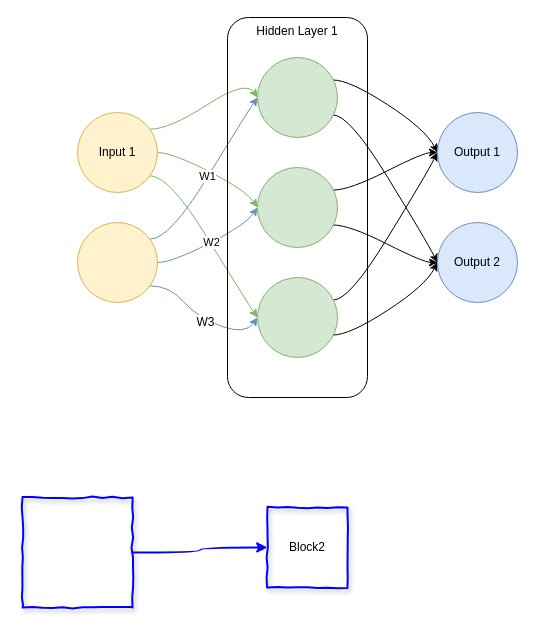
Some shapes in this 535 by 633 pixel diagram are drawn without their labels. Here are the shapes that lost their labels. From the top down, the centre of each, then its label:
At pixel 117 262: "Input 2".
At pixel 78 553: "Block1".
